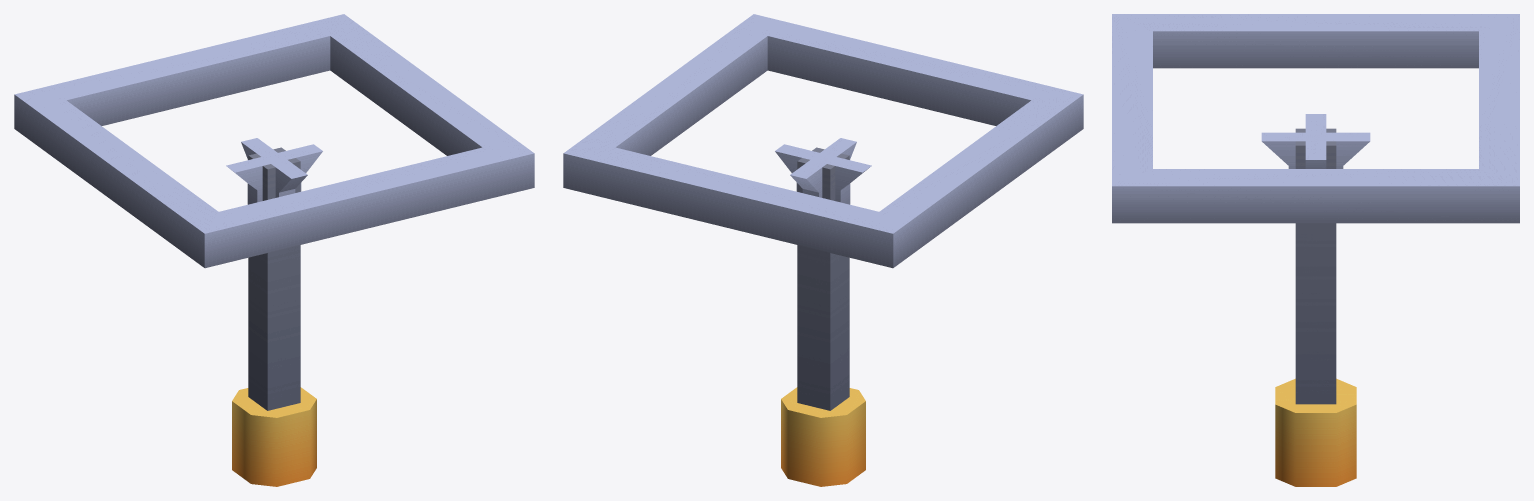
File: structure-barrier.glb
3 renders of one model, left to right at view 1: azimuth 30°, elevation 25°; view 2: azimuth 150°, elevation 25°; view 3: azimuth 270°, elevation 25°, orthographic. The views are drawn at different scales.
Visible parts, largest first — view 1: structure-barrier.009, structure-barrier.016, structure-barrier.004, structure-barrier.008, structure-barrier.001, structure-barrier.002, structure-barrier.005; view 2: structure-barrier.009, structure-barrier.015, structure-barrier.003, structure-barrier.016, structure-barrier.008, structure-barrier.001, structure-barrier.004, structure-barrier, structure-barrier.002, structure-barrier.007; view 3: structure-barrier.009, structure-barrier.013, structure-barrier.014, structure-barrier.003, structure-barrier.004, structure-barrier.010, structure-barrier.001, structure-barrier.005.
Boxes of the visible parts, box(x1,y1,x2,y2) form: structure-barrier.009: box(14, 14, 534, 268); structure-barrier.016: box(248, 147, 300, 410); structure-barrier.004: box(241, 391, 316, 486); structure-barrier.008: box(232, 388, 295, 483); structure-barrier.001: box(247, 144, 322, 204); structure-barrier.002: box(226, 156, 301, 193); structure-barrier.005: box(241, 138, 295, 196); structure-barrier.009: box(563, 14, 1083, 268); structure-barrier.015: box(797, 161, 830, 410); structure-barrier.003: box(781, 396, 846, 486); structure-barrier.016: box(799, 148, 849, 410); structure-barrier.008: box(783, 387, 865, 486); structure-barrier.001: box(775, 144, 850, 204); structure-barrier.004: box(839, 388, 865, 483); structure-barrier: box(802, 138, 856, 197); structure-barrier.002: box(796, 156, 871, 194); structure-barrier.007: box(783, 389, 865, 416); structure-barrier.009: box(1112, 14, 1519, 223); structure-barrier.013: box(1295, 128, 1336, 404); structure-barrier.014: box(1295, 128, 1336, 404); structure-barrier.003: box(1275, 378, 1356, 486); structure-barrier.004: box(1275, 390, 1356, 486); structure-barrier.010: box(1261, 132, 1343, 168); structure-barrier.001: box(1305, 125, 1326, 168); structure-barrier.005: box(1288, 132, 1370, 168).
Size of the model in its own units: 3 by 3 by 3.
Materials: 1 (1 with a texture image).
